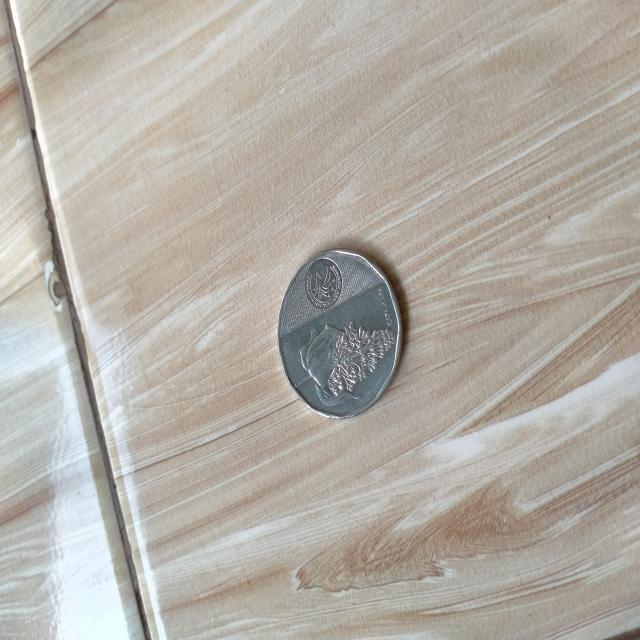10_New_Back: (296, 316, 399, 411)
